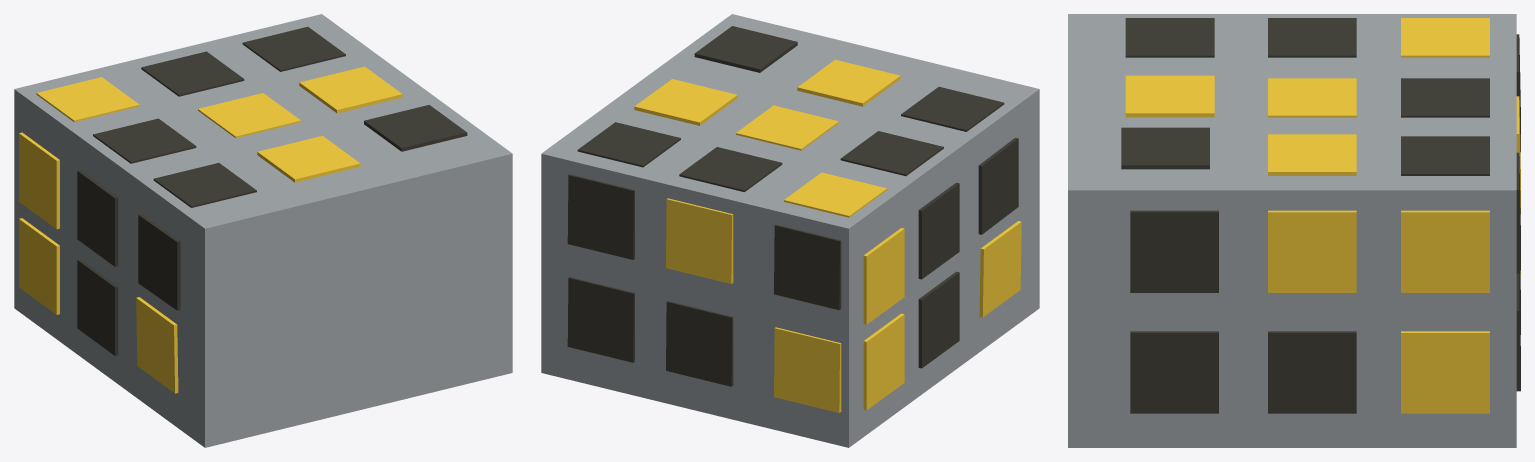
The model's file is Building3.obj.
3 views of the same model, side by side, from view 1: azimuth 30°, elevation 25°; view 2: azimuth 150°, elevation 25°; view 3: azimuth 270°, elevation 25° (orthographic). The views are drawn at different scales.
Parts seen in each view (by area): view 1: obj_0, obj_24, obj_31, obj_32, obj_23, obj_29, obj_30, obj_15, obj_9, obj_16, obj_14, obj_10 (+4 smaller); view 2: obj_0, obj_17, obj_21, obj_18, obj_22, obj_20, obj_19, obj_29, obj_30, obj_32, obj_31, obj_23 (+10 smaller); view 3: obj_0, obj_7, obj_25, obj_27, obj_28, obj_33, obj_34, obj_16, obj_15, obj_9, obj_35, obj_10 (+6 smaller).
Boxes of the visible parts, <box> form: obj_0: <box>14,14,512,447</box>; obj_24: <box>138,214,180,310</box>; obj_31: <box>77,259,118,355</box>; obj_32: <box>77,170,118,266</box>; obj_23: <box>136,297,178,393</box>; obj_29: <box>19,132,59,229</box>; obj_30: <box>19,218,59,314</box>; obj_15: <box>364,105,467,151</box>; obj_9: <box>299,66,402,113</box>; obj_16: <box>257,136,360,182</box>; obj_14: <box>36,77,139,122</box>; obj_10: <box>242,26,345,71</box>; obj_0: <box>541,14,1039,447</box>; obj_17: <box>666,198,733,283</box>; obj_21: <box>774,224,841,310</box>; obj_18: <box>666,301,733,386</box>; obj_22: <box>774,327,841,412</box>; obj_20: <box>567,174,634,259</box>; obj_19: <box>567,277,634,362</box>; obj_29: <box>863,228,904,324</box>; obj_30: <box>863,313,904,410</box>; obj_32: <box>918,182,959,279</box>; obj_31: <box>918,271,959,368</box>; obj_23: <box>979,221,1021,317</box>; obj_0: <box>1068,14,1516,447</box>; obj_7: <box>1401,331,1489,413</box>; obj_25: <box>1268,331,1356,413</box>; obj_27: <box>1268,210,1356,292</box>; obj_28: <box>1401,210,1489,292</box>; obj_33: <box>1130,331,1218,413</box>; obj_34: <box>1130,210,1218,292</box>; obj_16: <box>1125,75,1214,117</box>; obj_15: <box>1121,127,1209,169</box>; obj_9: <box>1268,134,1356,175</box>; obj_35: <box>1125,18,1214,57</box>; obj_10: <box>1401,136,1489,175</box>.
Bounding box in the file's own units: 97.01 × 68 × 102.
